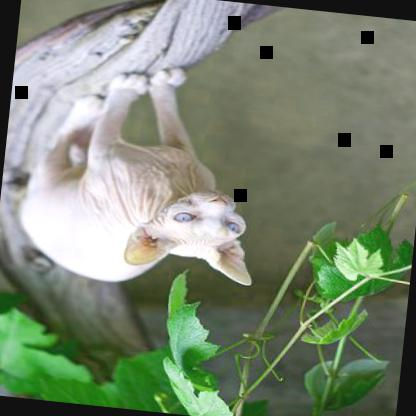cat: (12, 52, 272, 296)
